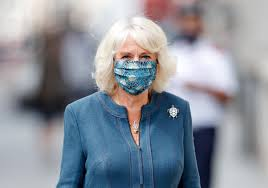FaceMask: (114, 60, 157, 96)
